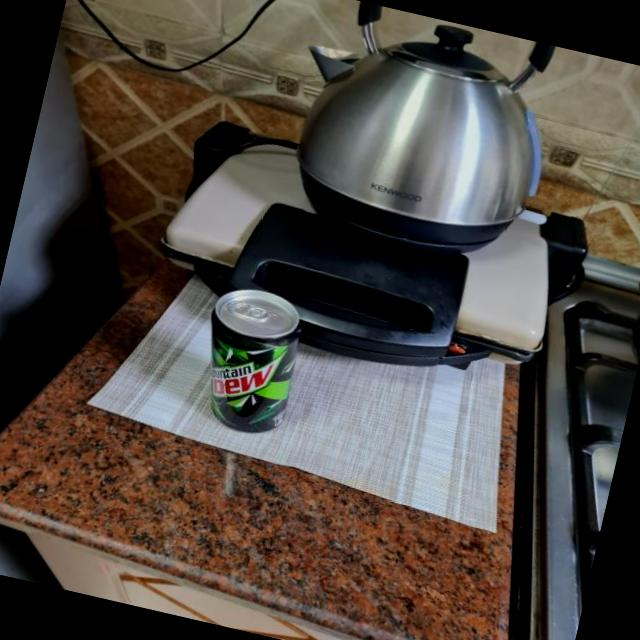can: (184, 277, 314, 443)
